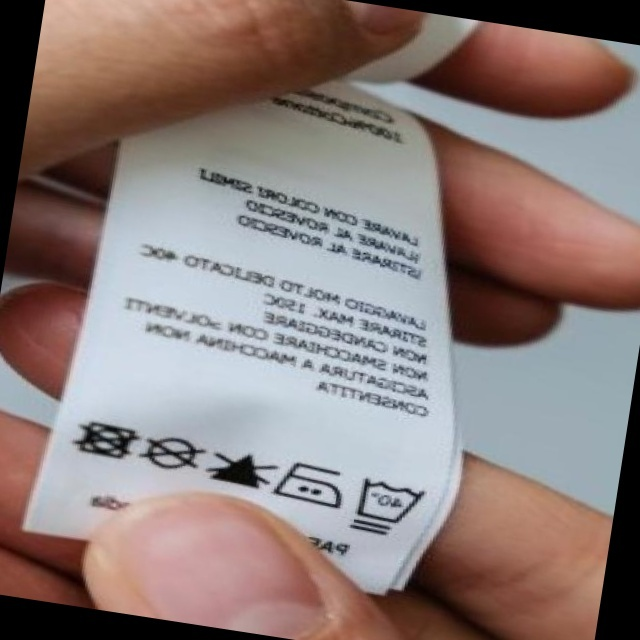40C: (349, 470, 423, 542)
DN_bleach: (202, 439, 274, 498)
DN_dry_clean: (140, 429, 204, 478)
DN_tumble_dry: (72, 417, 138, 466)
iron_medium: (267, 451, 350, 519)
